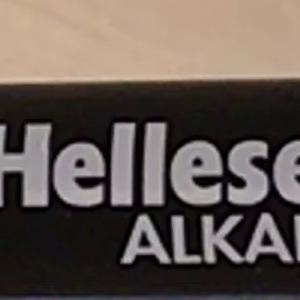ALK: (112, 206, 211, 273)
